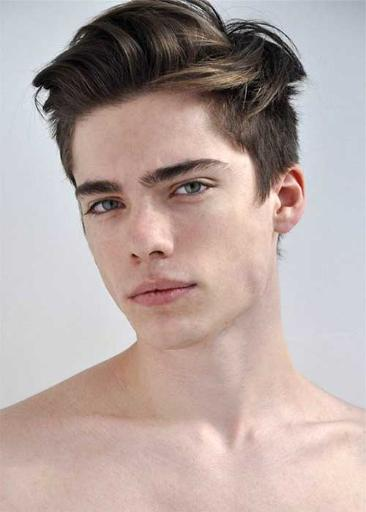left_eye: (169, 178, 221, 203)
left_lip_corner: (188, 278, 205, 298)
right_eye: (87, 197, 128, 220)
right_lip_corner: (126, 291, 138, 306)
